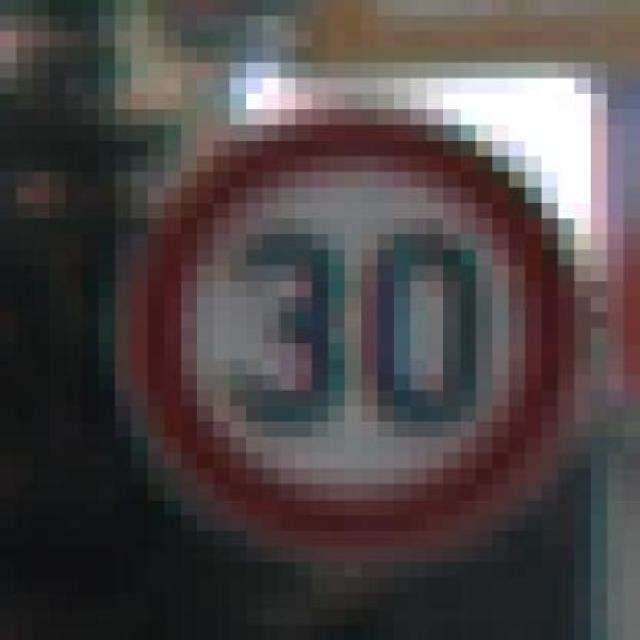forb_speed_over_30: (150, 121, 573, 544)
